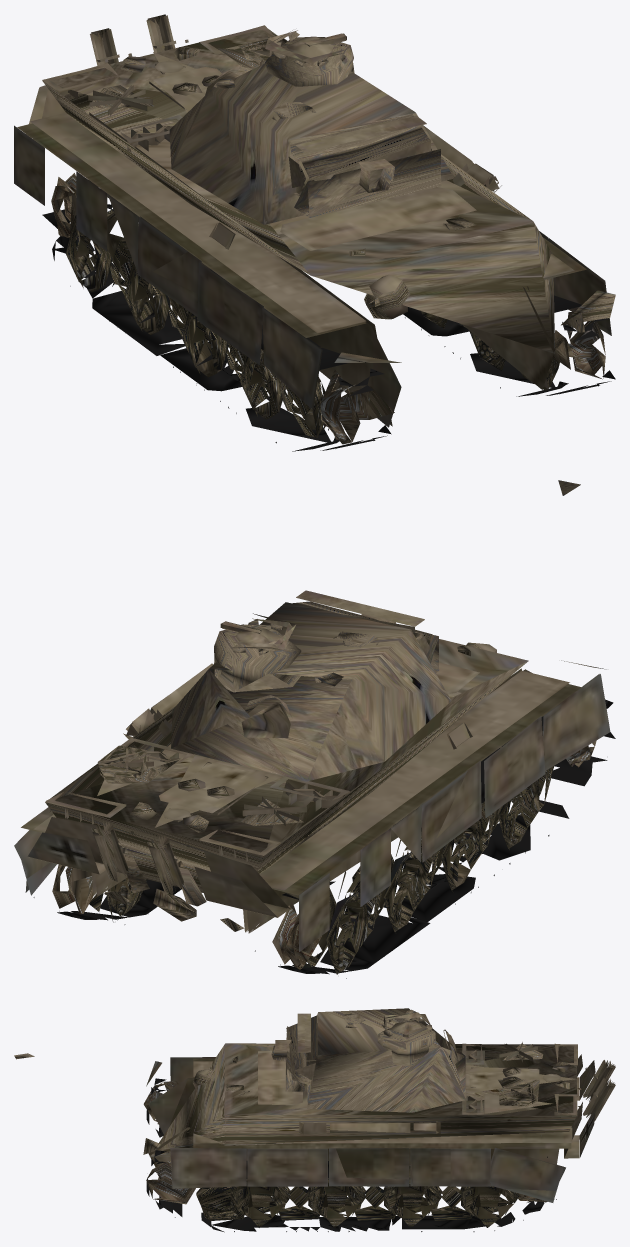
Rendered from panther_g_enkel.glb.
The picture shows the model from 3 angles, top to bottom: view 1: azimuth 30°, elevation 25°; view 2: azimuth 150°, elevation 25°; view 3: azimuth 270°, elevation 25°; orthographic projection. The views are drawn at different scales.
Visible parts, largest first — view 1: Plane004, Plane005, Object024_Material #29_0, Box052, Box008, Object002_Material #28_0, Box113, Cylinder004, wheels001, tracks.002_Material #26_0.001, tracks.002, Object023_Material #27_0 (+22 smaller); view 2: Plane005, Plane004, Box052, Object024_Material #29_0, tracks.002_Material #26_0.001, Cylinder001, Box135, Box022, Box010, tracks.002, Object023_Material #27_0, Object022_Material #27_0 (+16 smaller); view 3: Plane004, Plane005, Object012_Material #29_0, Box048, Box049, Box050, Box037, Box051, tracks.001_Material #26_0.001, Box008, Object018_Material #27_0, Object017_Material #27_0 (+25 smaller).
Boxes of the visible parts, x1,y1,x2,y2 form: Plane004: (42,29,554,353); Plane005: (169,63,454,224); Object024_Material #29_0: (17,112,366,337); Box052: (14,125,322,409); Box008: (280,187,476,250); Object002_Material #28_0: (294,149,441,217); Box113: (89,112,401,427); Cylinder004: (290,114,430,193); wheels001: (51,173,394,444); tracks.002_Material #26_0.001: (160,345,391,451); tracks.002: (42,180,320,355); Object023_Material #27_0: (66,209,138,291); Plane005: (171,602,451,781); Plane004: (45,639,528,892); Box052: (299,674,610,951); Object024_Material #29_0: (259,670,581,895); tracks.002_Material #26_0.001: (384,699,615,922); Cylinder001: (214,624,301,692); Box135: (194,851,289,917); Box022: (27,817,105,874); Box010: (159,762,268,815); tracks.002: (278,748,499,974); Object023_Material #27_0: (298,879,368,974); Object022_Material #27_0: (352,852,425,932); Plane004: (150,1043,576,1156); Plane005: (307,1008,465,1112); Object012_Material #29_0: (193,1127,572,1148); Box048: (247,1148,327,1186); Box049: (329,1148,409,1186); Box050: (410,1148,490,1186); Box037: (170,1148,246,1188); Box051: (490,1147,565,1202); tracks.001_Material #26_0.001: (146,1150,391,1232); Box008: (258,1050,302,1105); Object018_Material #27_0: (383,1165,442,1226); Object017_Material #27_0: (307,1178,366,1227).
Size of the model in its own units: 3.3 by 2.76 by 8.65.
7 materials, 6 textured.
